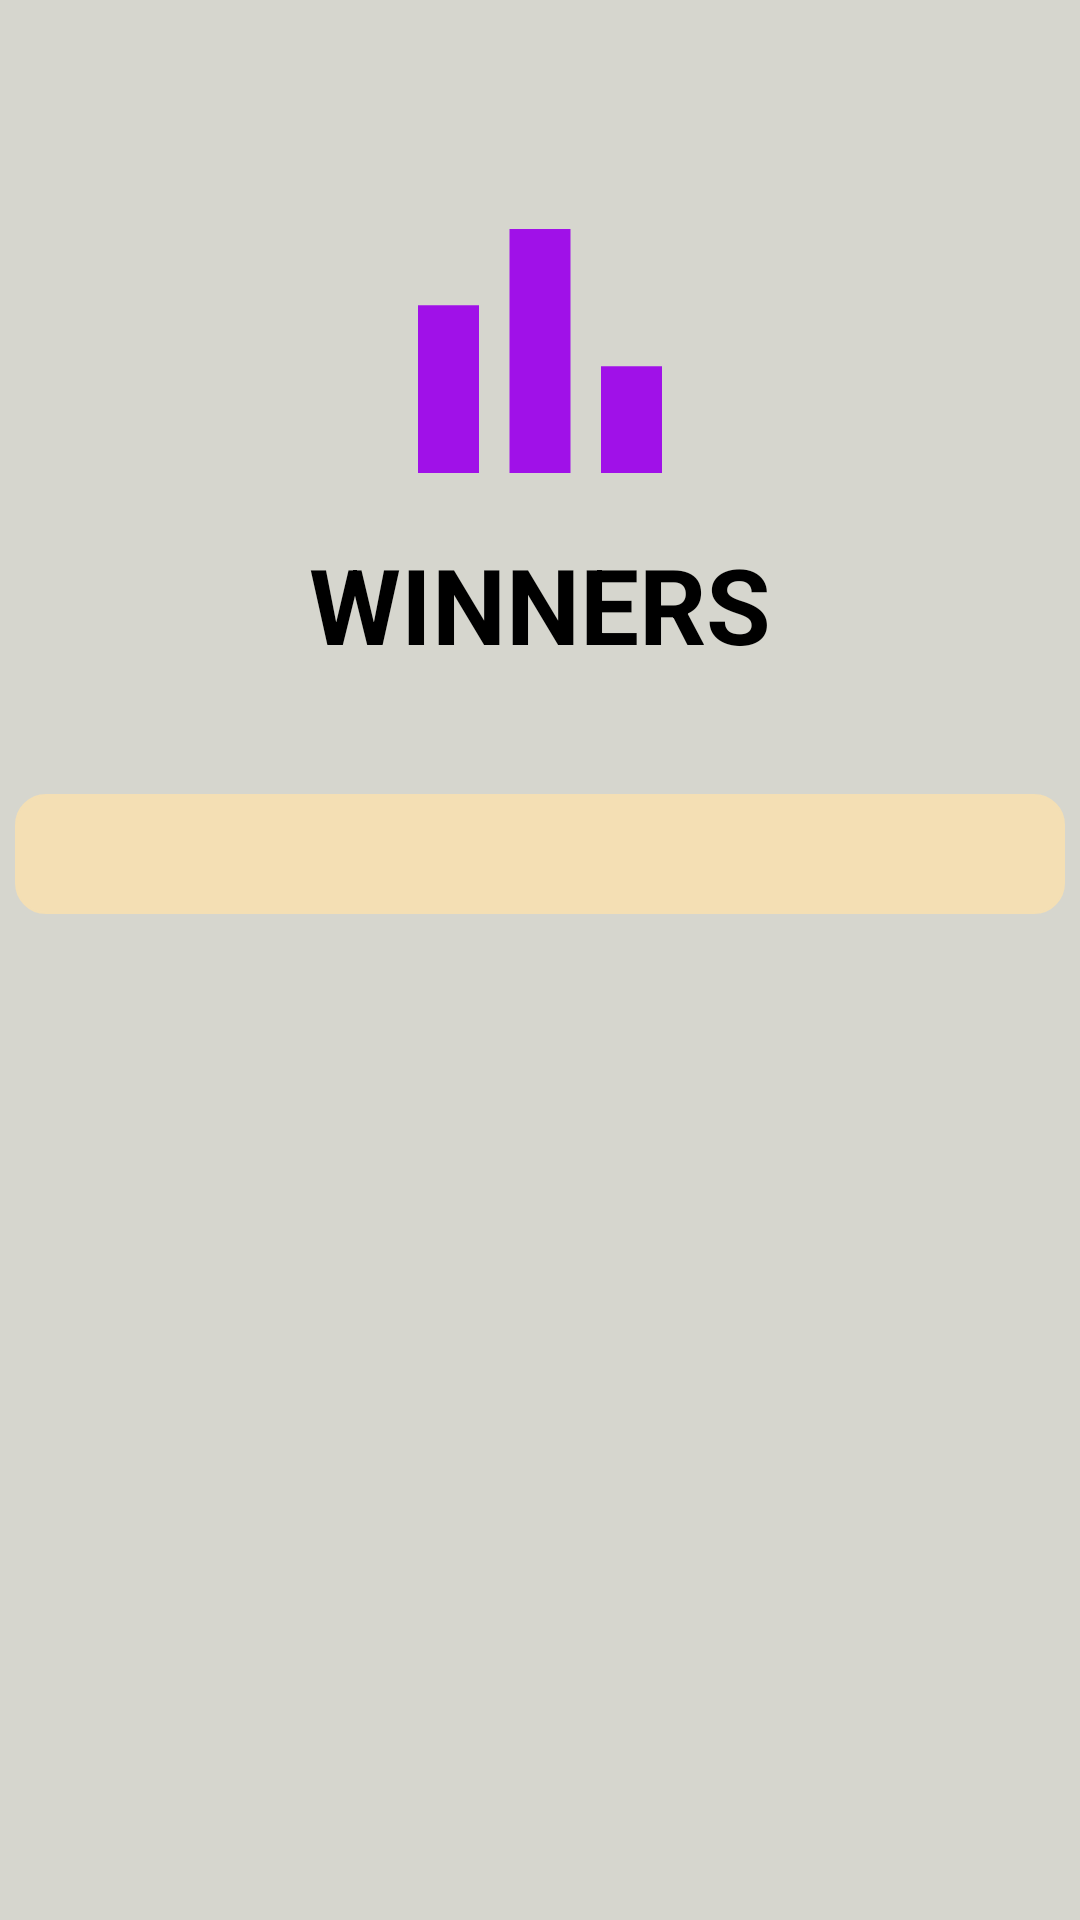

Icon click points for this 1080x1920 phone screenshot, format (x,y):
bar chart: (540,351)
